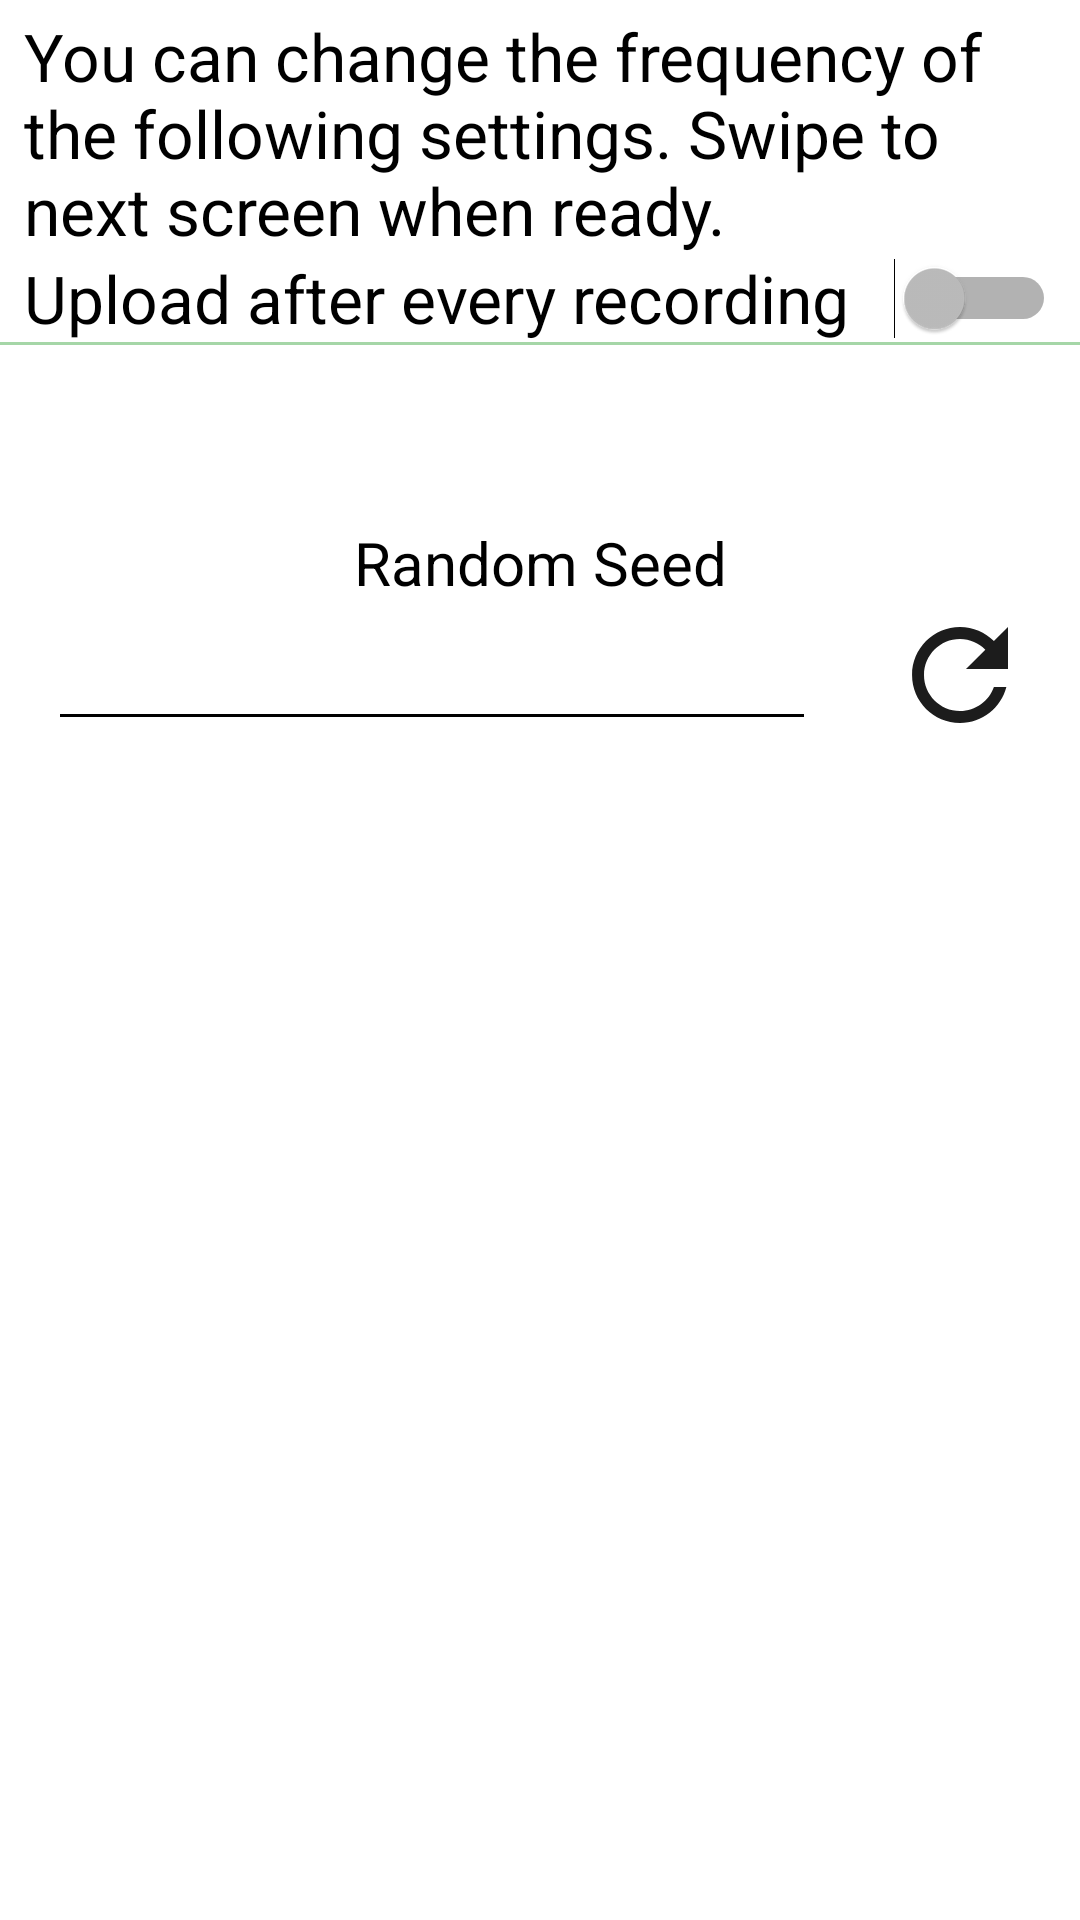

Locate icon controls on the screen. Image size 1080x1920, boxes as (x1, y1, x2, y2).
refresh: (912, 627, 1008, 723)
